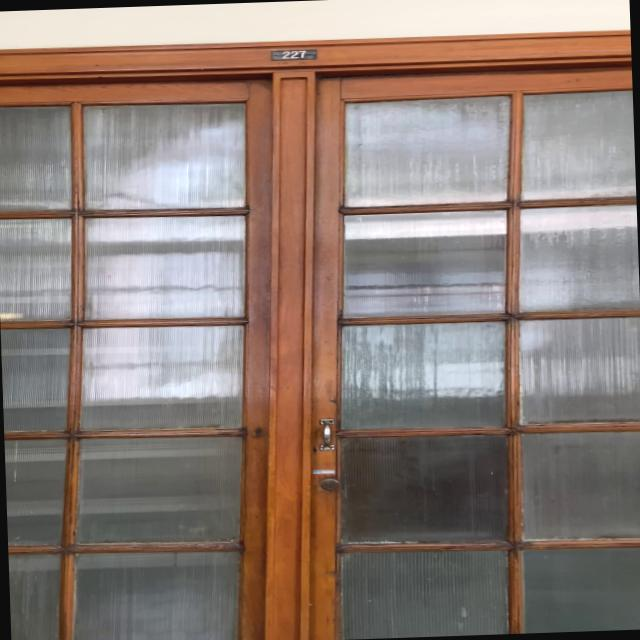room227: (269, 48, 319, 61)
